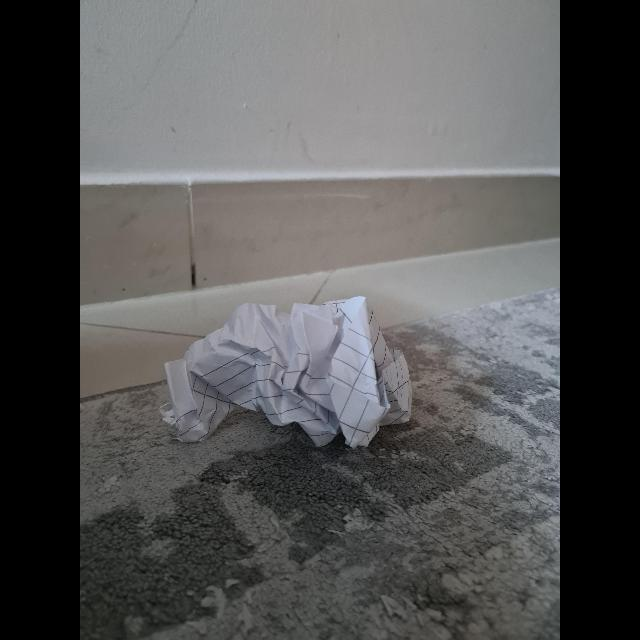scrap_paper: (150, 293, 420, 445)
